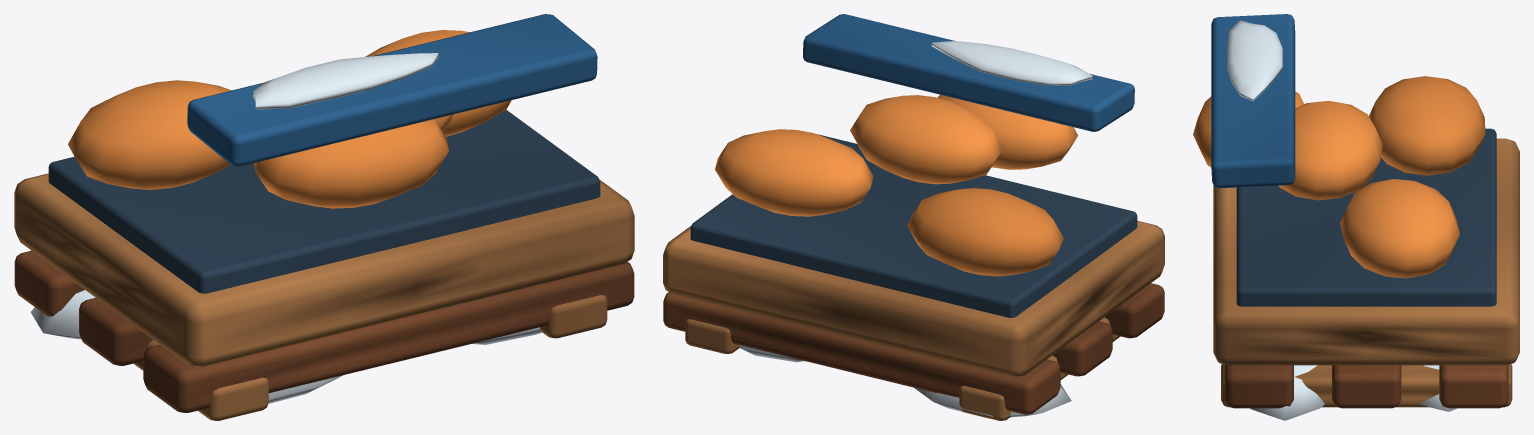
Rendered from cooked_food_stack.glb.
3 views of the same model, side by side, from view 1: azimuth 30°, elevation 25°; view 2: azimuth 150°, elevation 25°; view 3: azimuth 270°, elevation 25° (orthographic). The views are drawn at different scales.
Parts seen in each view (by area): view 1: cooked_food_stack; view 2: cooked_food_stack; view 3: cooked_food_stack.
Part boxes in pixels (<box>): cooked_food_stack: <box>14,14,634,420</box>; cooked_food_stack: <box>663,14,1164,420</box>; cooked_food_stack: <box>1193,14,1519,420</box>.
Bounding box in the file's own units: 1.38 × 0.886 × 0.9812.
